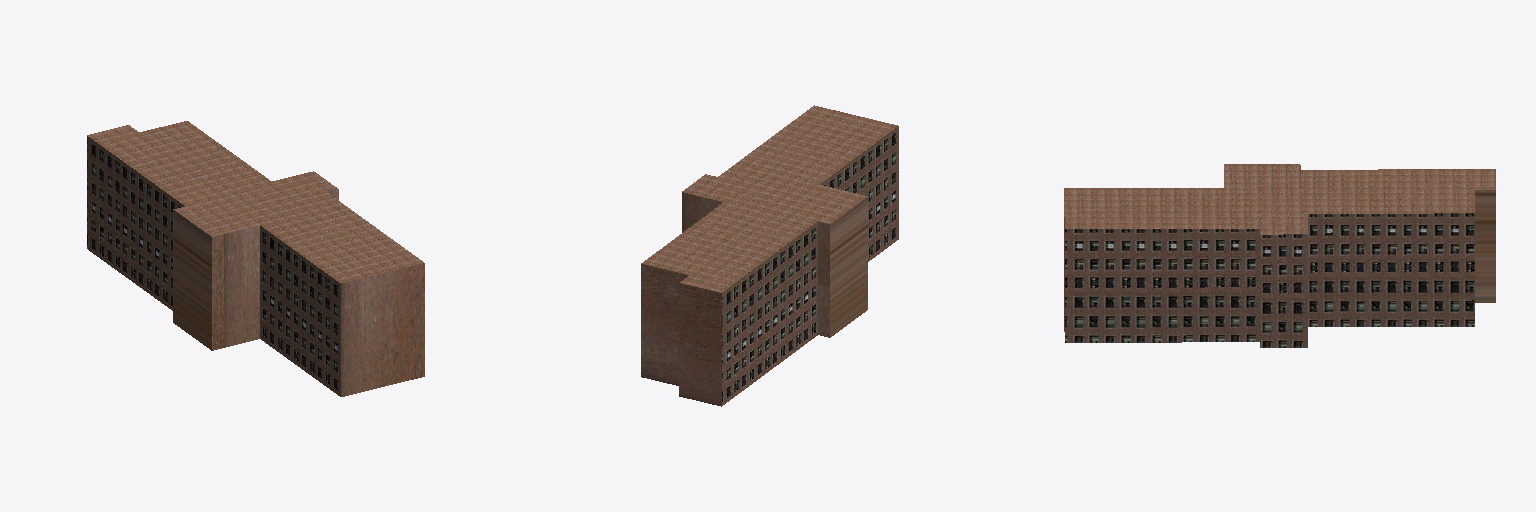
The picture shows the model from 3 angles: view 1: azimuth 30°, elevation 25°; view 2: azimuth 150°, elevation 25°; view 3: azimuth 270°, elevation 25°; orthographic projection.
Parts seen in each view (by area): view 1: VMtl1699, VMtl1697; view 2: VMtl1699, VMtl1697; view 3: VMtl1697, VMtl1699.
Boxes of the visible parts, <box> form: VMtl1699: <box>87,121,424,396</box>; VMtl1697: <box>87,136,340,396</box>; VMtl1699: <box>641,105,897,406</box>; VMtl1697: <box>722,126,898,405</box>; VMtl1697: <box>1065,213,1474,347</box>; VMtl1699: <box>1064,164,1495,331</box>.
Bounding box in the file's own units: 28.98 × 21.7 × 74.76.
Materials: 2 (2 with a texture image).